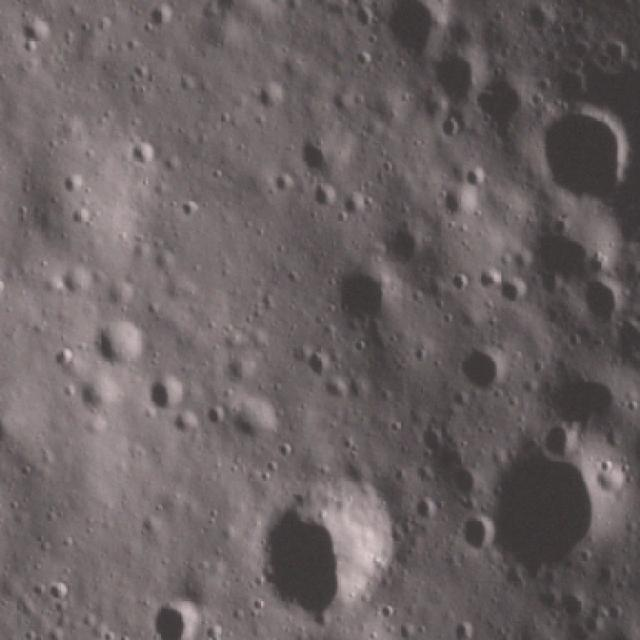crater: (475, 432, 613, 594), (254, 482, 400, 620), (530, 102, 633, 203), (544, 362, 621, 444), (330, 262, 401, 329), (377, 3, 454, 60), (474, 71, 528, 137), (454, 334, 509, 398), (430, 47, 485, 105), (88, 317, 150, 368), (227, 393, 285, 444), (574, 275, 626, 327), (382, 217, 436, 266), (150, 592, 199, 640), (296, 132, 346, 177), (537, 416, 583, 462), (454, 509, 498, 557), (150, 370, 192, 413), (446, 466, 488, 506), (438, 188, 482, 225), (339, 188, 375, 229), (12, 14, 54, 49), (320, 370, 357, 408), (592, 459, 625, 499), (413, 422, 447, 460), (494, 274, 532, 308), (253, 81, 289, 116), (124, 138, 159, 170), (303, 341, 334, 376), (143, 3, 179, 31), (308, 179, 339, 210), (413, 496, 441, 530), (202, 401, 229, 433), (448, 614, 483, 638), (45, 573, 72, 604), (462, 166, 487, 191)
